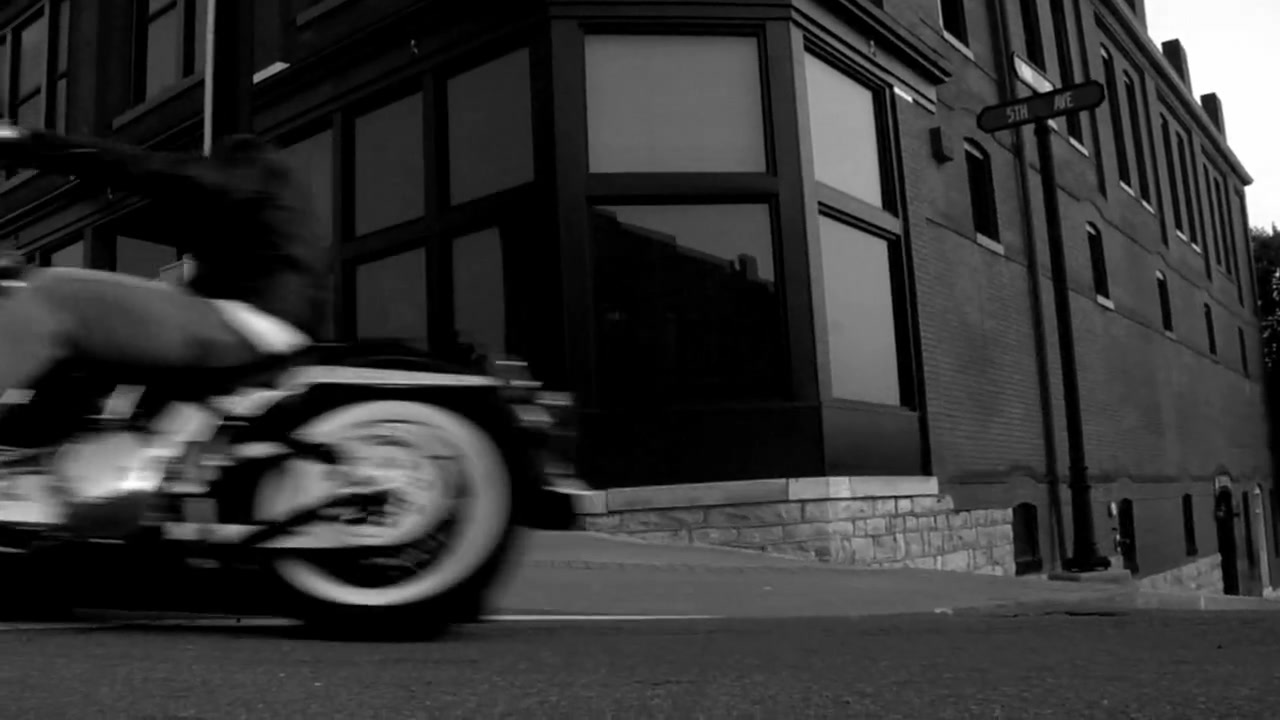motorbike: (3, 276, 590, 639)
